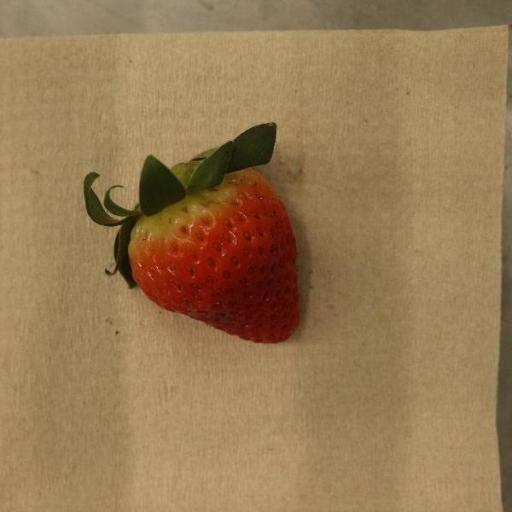Strawberry: (83, 123, 301, 345)
